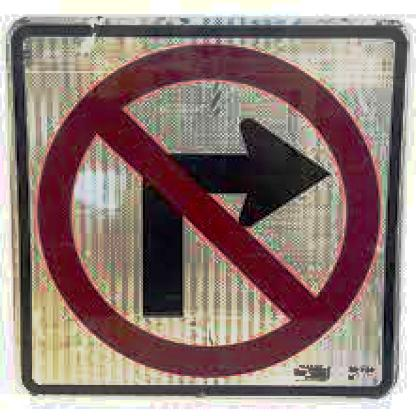No right turn: (38, 42, 378, 379)
